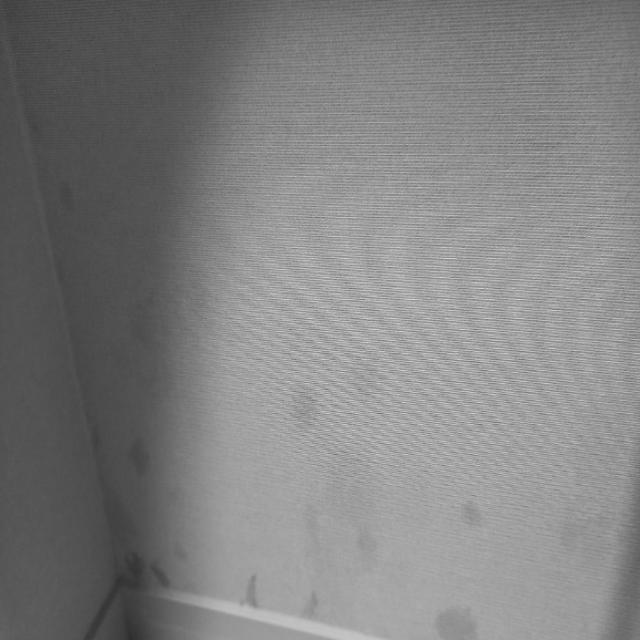stain marks: (237, 356, 490, 634), (88, 262, 212, 592), (552, 464, 590, 548), (47, 163, 80, 215)
